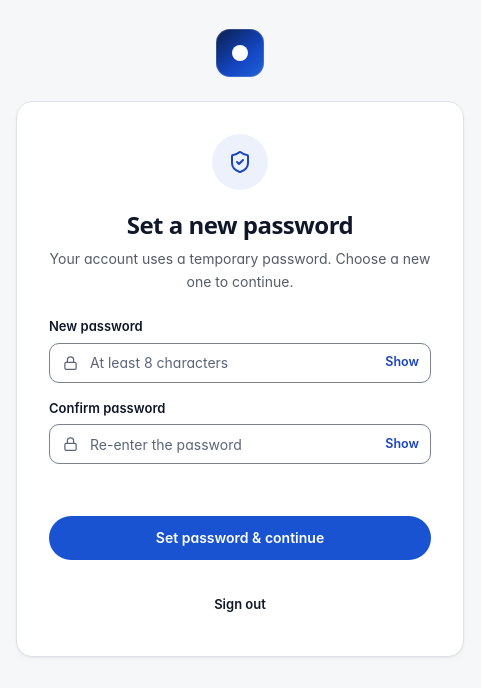
Scenario: ChangePassword › enforces the same minimum length client-side as the reset page
Type "short" into the password field labelled "New password".
click(240, 363); type("short")  # box [49,343,431,383]
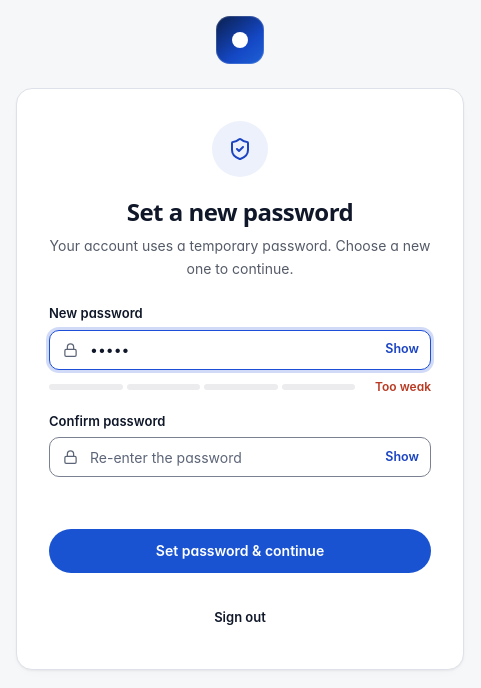
Type "short" into the password field labelled "Confirm password".
click(240, 457); type("short")  # box [49,437,431,477]
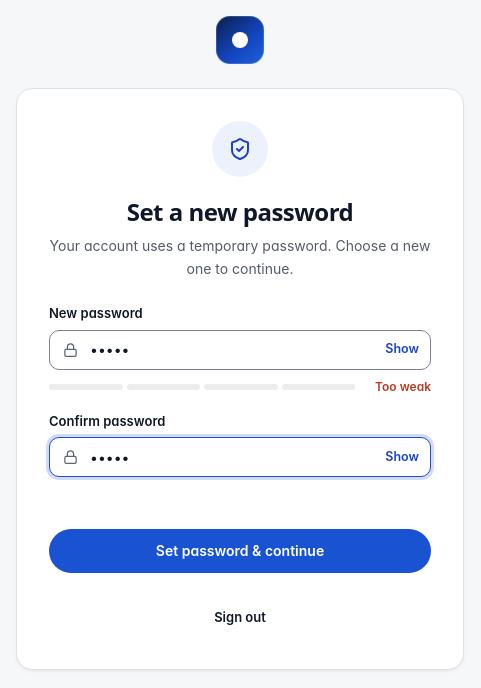
Click the button "Set password & continue".
click(240, 551)  # box [49,529,431,573]
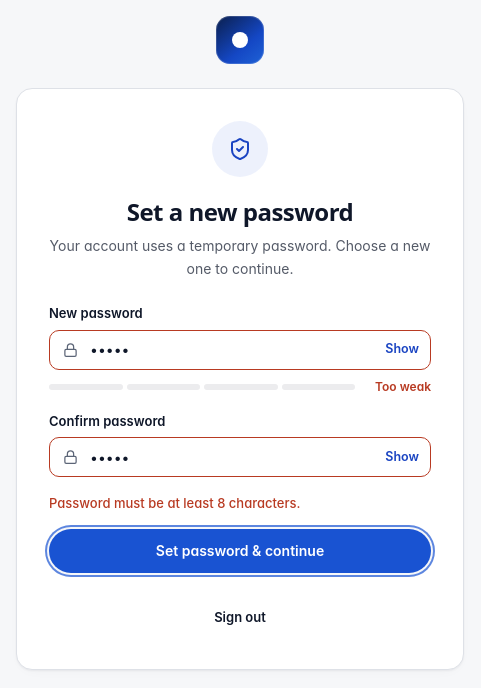
Check: the message "Password must be at least 8 characters." is shown, box [49,495,300,511]
